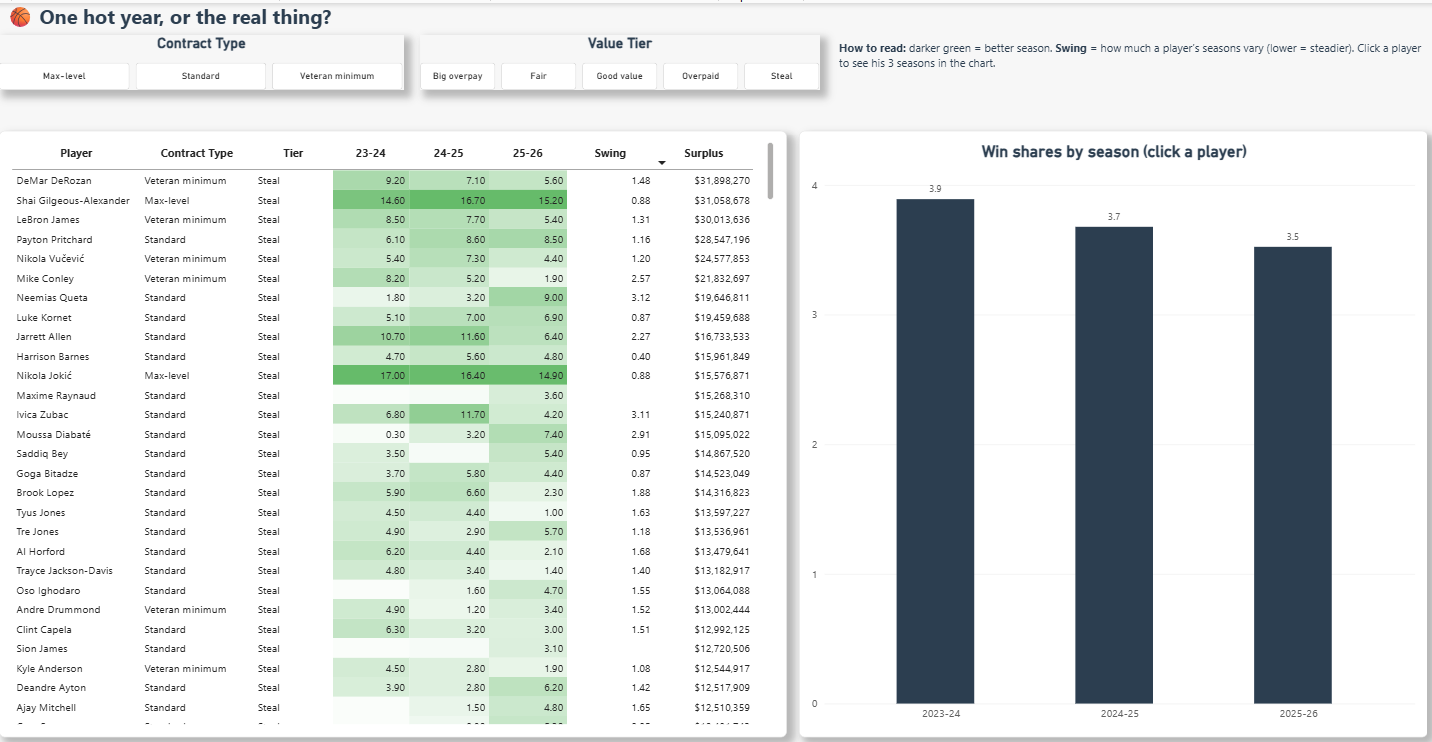

Layout of this report page (visuals, bound fields, positions):
{"tool":"powerbi","page":{"name":"Consistency","canvas":[1920,1080],"ordinal":1},"visuals":[{"type":"textbox","box":[10,0,504.3,42.9],"z":0},{"type":"advancedSlicerVisual","title":"Value Tier","fields":{"Values":["player_value.value_tier"]},"box":[561.4,42.9,532.9,74.3],"z":1000},{"type":"advancedSlicerVisual","title":"Contract Type","fields":{"Values":["player_value.contract_type"]},"box":[0,42.9,540,74.3],"z":2000},{"type":"tableEx","fields":{"Values":["player_value.player","player_value.contract_type","player_value.value_tier","player_value.ws_2023_24","player_value.ws_2024_25","player_value.ws_2025_26","player_value.ws_spread","player_value.surplus_value"]},"box":[0,231.4,1050,808.6],"z":3000},{"type":"clusteredColumnChart","title":"Win shares by season (click a player)","fields":{"Category":["ws_by_season.Season"],"Y":["Avg(ws_by_season.Win Shares)"]},"box":[1064.3,231.4,838.6,808.6],"z":3001},{"type":"textbox","box":[150,150,785.7,72],"z":3002}]}

Visuals, with their boxes on the page's 1920x1080 design canvas (x1, y1, x2, y2). These are canvas units, not pixel positions in the 1432x742 screenshot, which may show the page scaled, cropped or inside an application window:
textbox: detection(10, 0, 514, 43)
"Value Tier" advancedSlicerVisual: detection(561, 43, 1094, 117)
"Contract Type" advancedSlicerVisual: detection(0, 43, 540, 117)
tableEx - player_value.player x player_value.contract_type: detection(0, 231, 1050, 1040)
"Win shares by season (click a player)" clusteredColumnChart: detection(1064, 231, 1903, 1040)
textbox: detection(150, 150, 936, 222)
